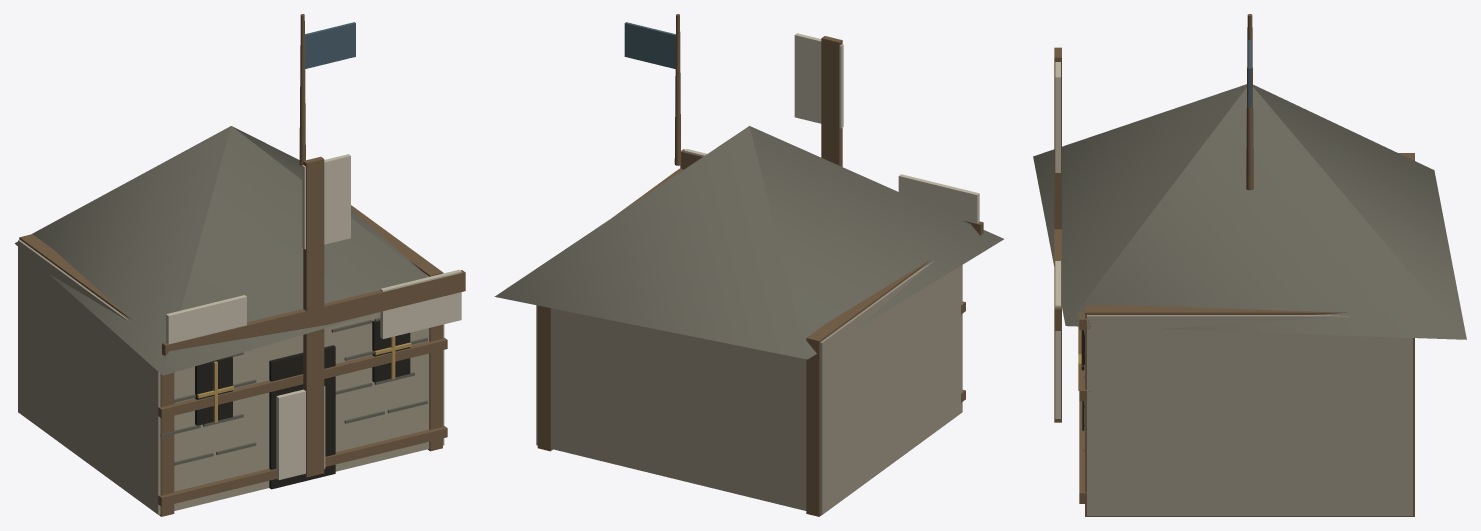
Rendered from b-mill.glb.
3 renders of one model, left to right at view 1: azimuth 30°, elevation 25°; view 2: azimuth 150°, elevation 25°; view 3: azimuth 270°, elevation 25°, orthographic. The views are drawn at different scales.
Visible parts, largest first — view 1: Structure, sail0, sail2, sail3, sail1; view 2: Structure, sail0, sail1; view 3: Structure, sail0, sail3, sail2.
Part boxes in pixels (bbox=[...]): Structure: bbox=[15, 14, 447, 516]; sail0: bbox=[302, 154, 350, 325]; sail2: bbox=[276, 309, 325, 479]; sail3: bbox=[312, 269, 465, 338]; sail1: bbox=[162, 295, 322, 355]; Structure: bbox=[494, 14, 1003, 516]; sail0: bbox=[794, 33, 843, 166]; sail1: bbox=[898, 174, 983, 235]; Structure: bbox=[1033, 14, 1466, 516]; sail0: bbox=[1054, 47, 1061, 229]; sail3: bbox=[1054, 229, 1061, 361]; sail2: bbox=[1054, 331, 1061, 422].
Size of the model in its own units: 4.53 by 5.33 by 4.53.
